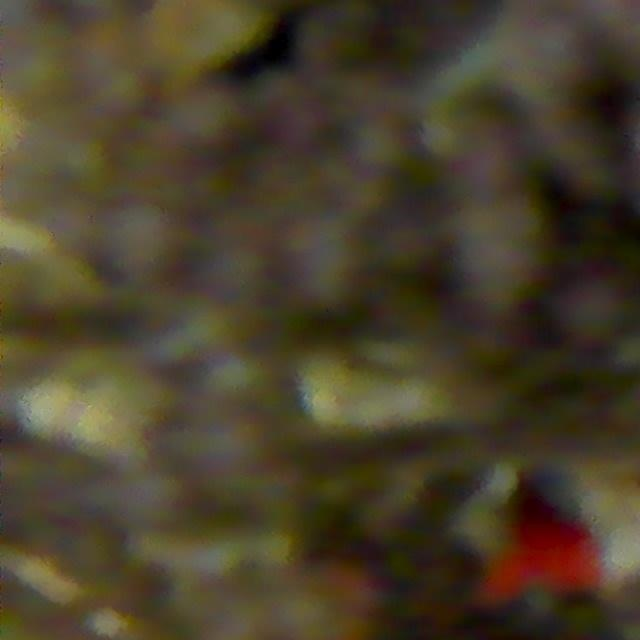SeaGrape: (557, 273, 629, 343)
